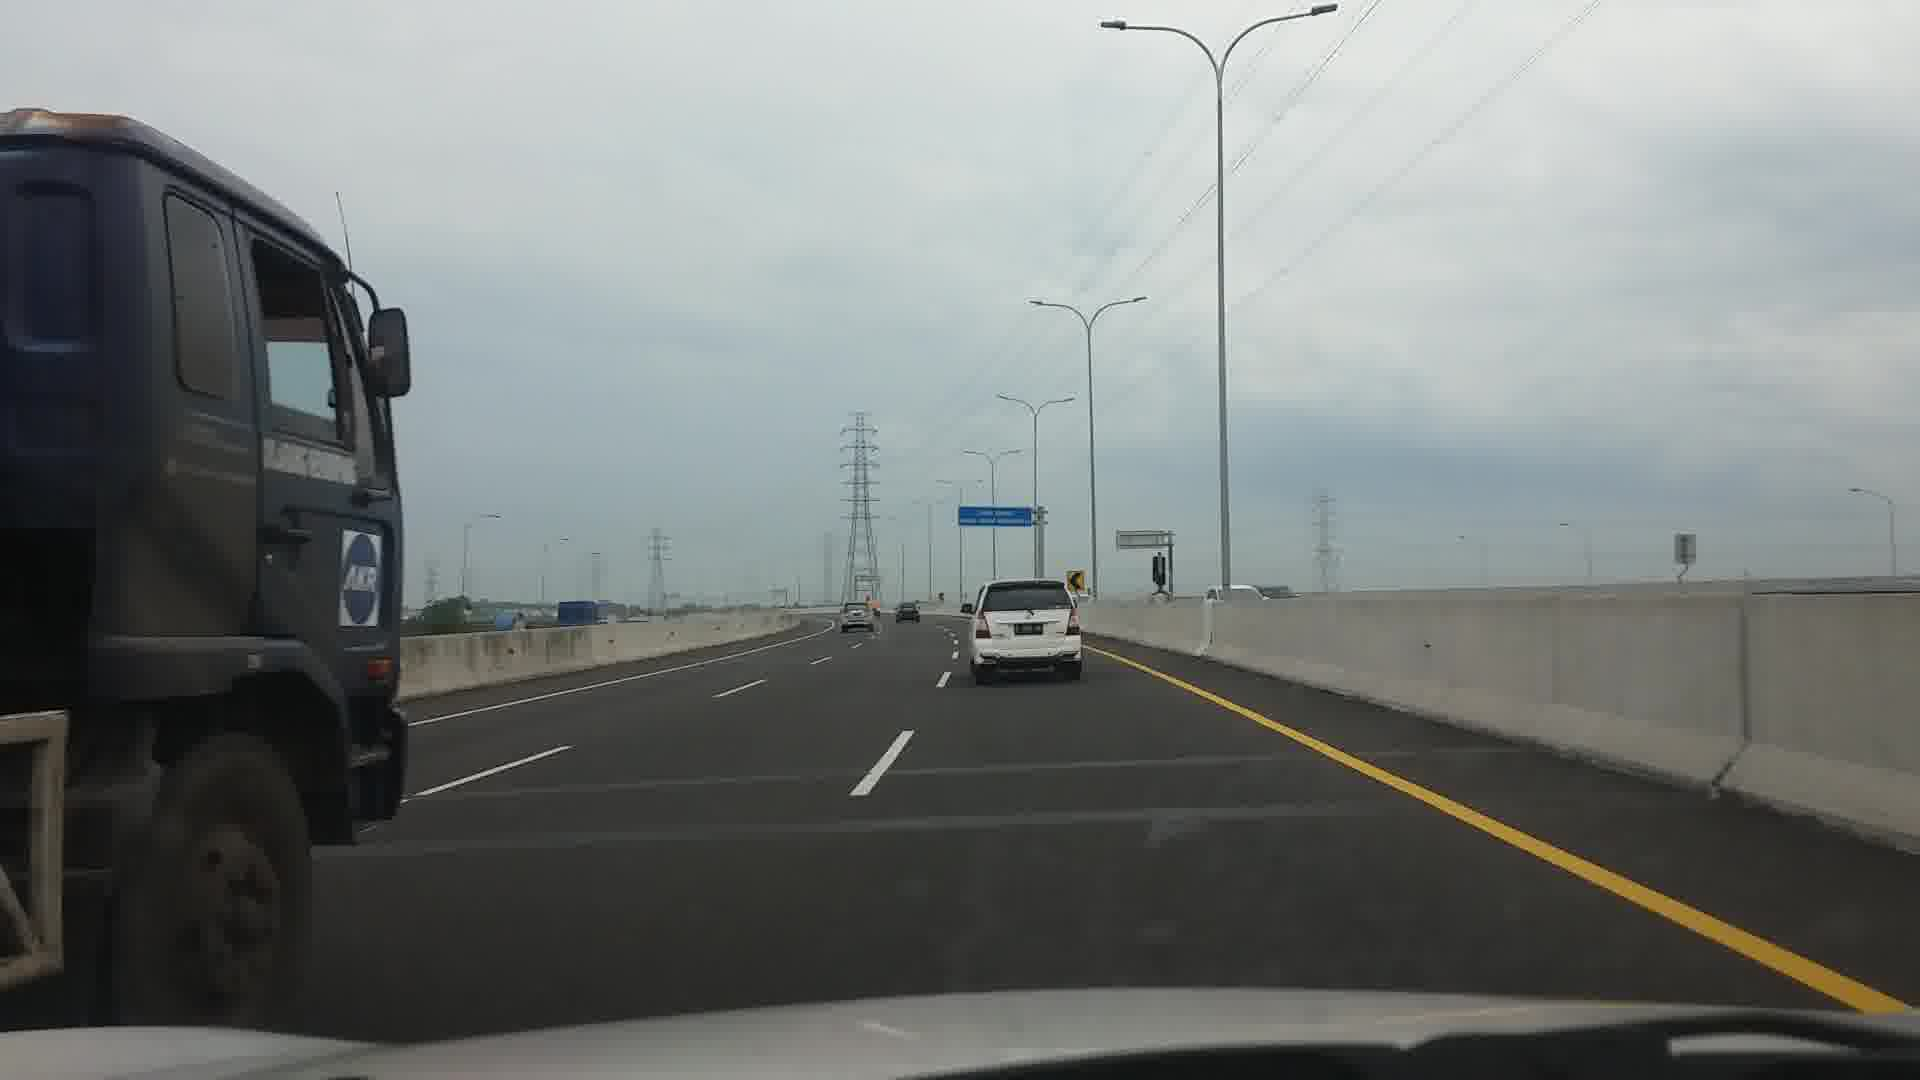plate_positive: (1015, 624, 1044, 636)
